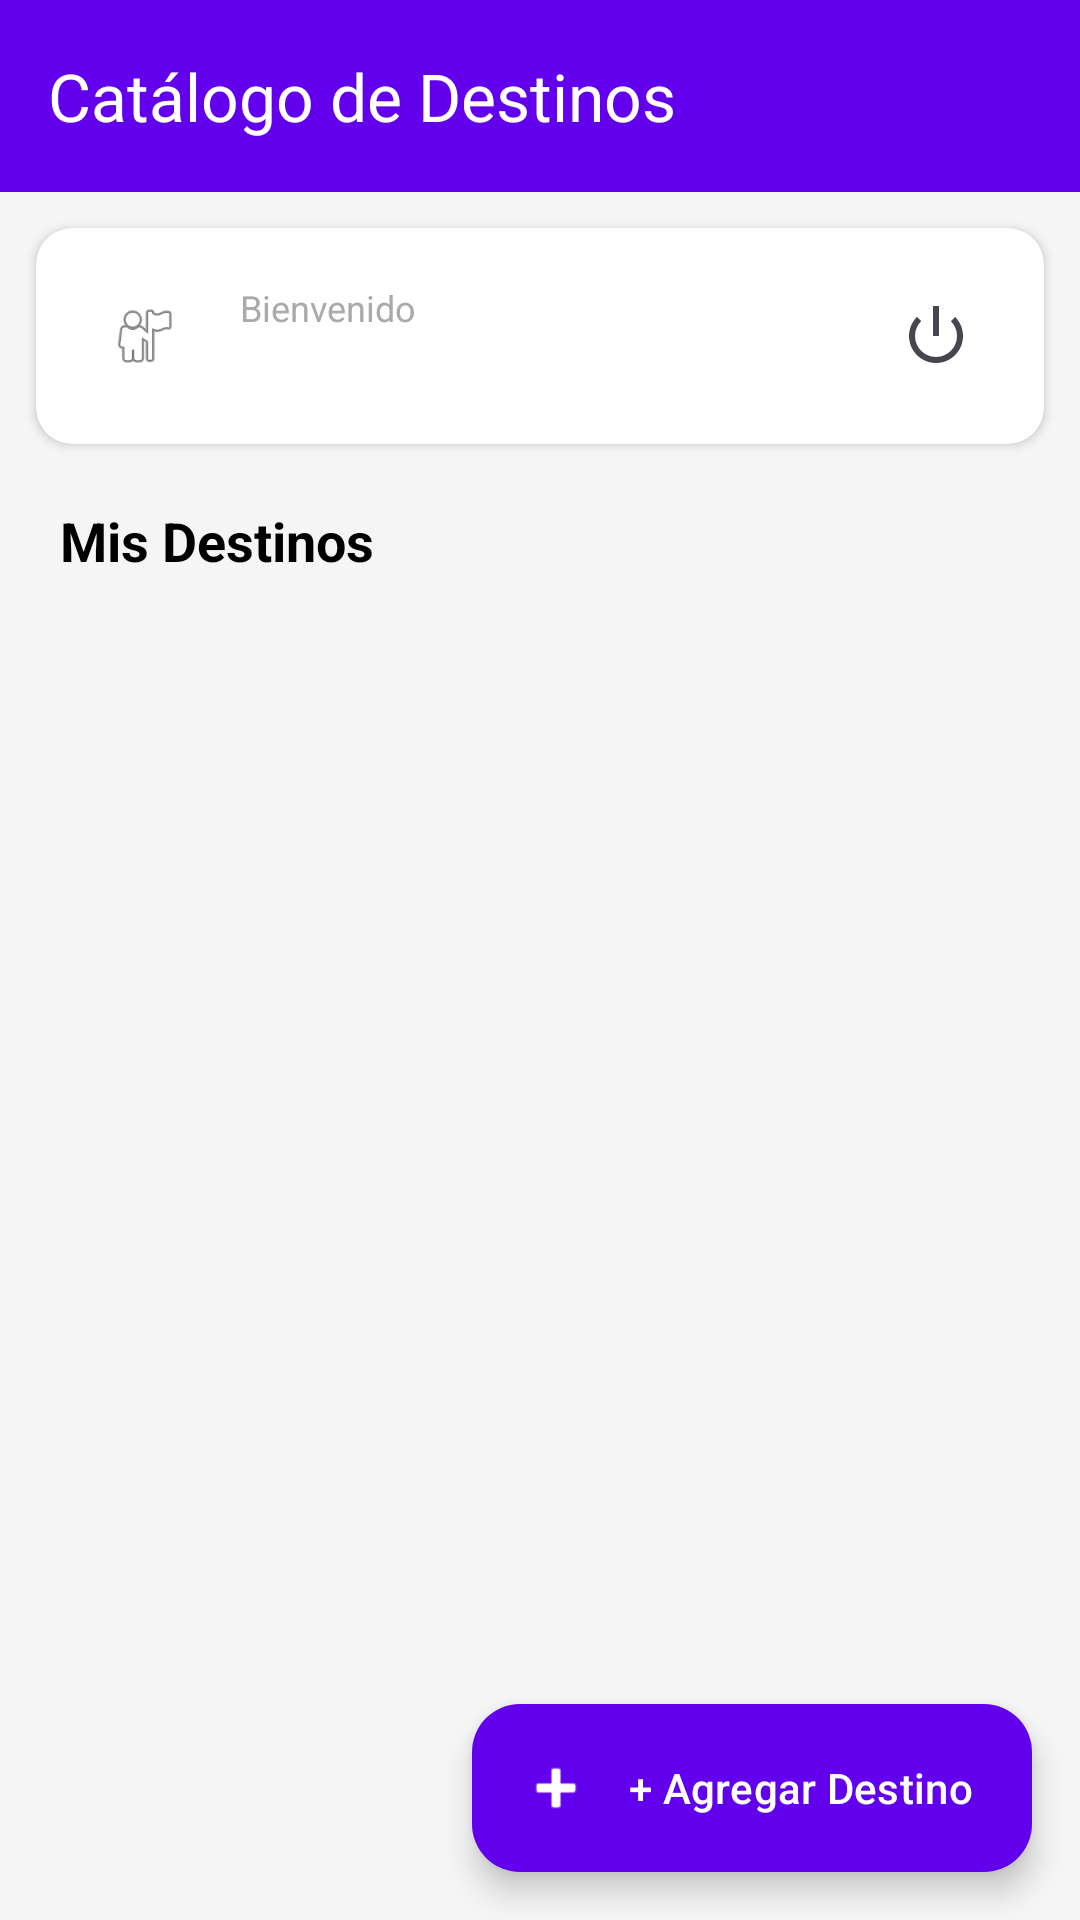

Screen size 1080 × 1920. Icon name, then its center in pixels as [x,y]:
Cerrar sesión: [936,334]
Ícono de usuario: [145,336]
